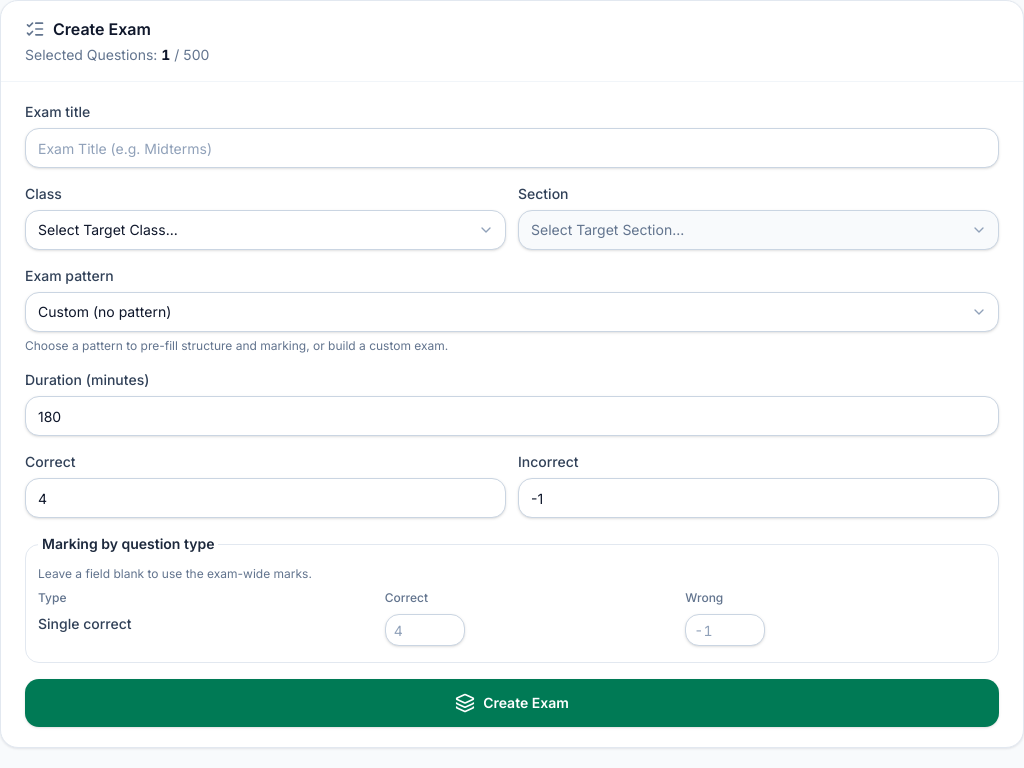
Test: CreateExamCard › choosing a pattern fills and locks duration and marking; Custom unlocks them
The width and height of the screenshot is (1024, 768).
Select "Mini JEE · 3 Qs · 90 min" in the dropdown named "Exam pattern for new exam": (512, 312) [25, 292, 999, 332]
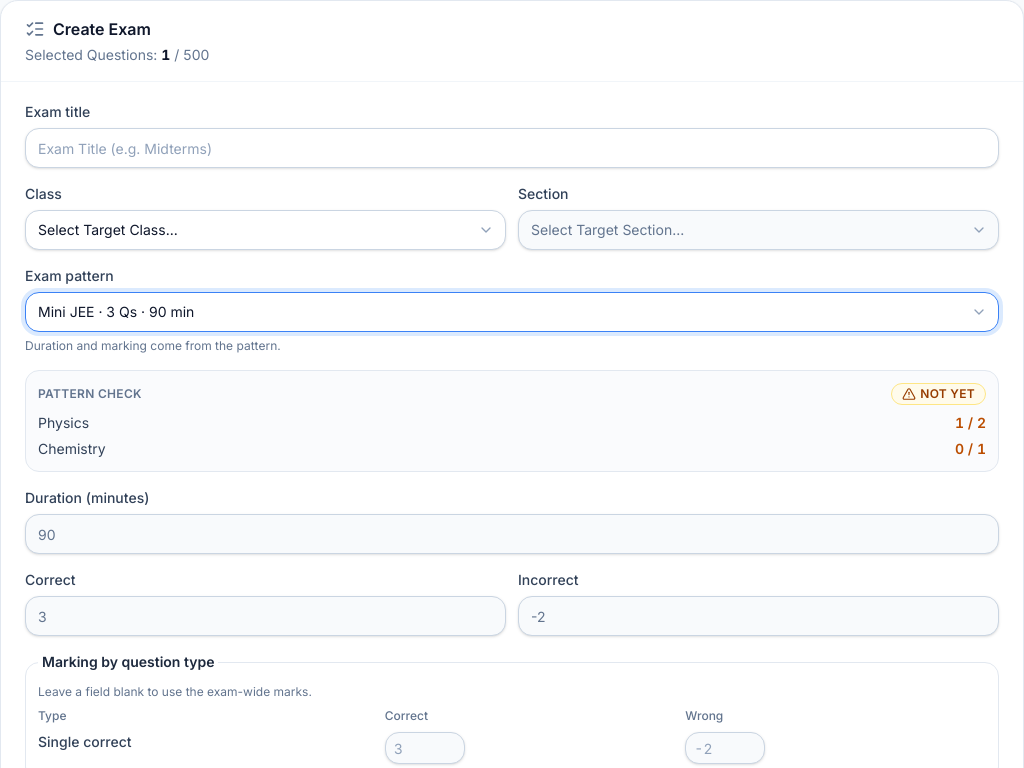
Result: the number field named "Duration for new exam" holds "90" at [25, 514, 999, 554]
Result: the number field named "Marks for a correct answer" holds "3" at [25, 596, 506, 636]
Result: the number field named "Marks for an incorrect answer" holds "-2" at [518, 596, 999, 636]
Select "Custom (no pattern)" in the dropdown named "Exam pattern for new exam": (512, 312) [25, 292, 999, 332]
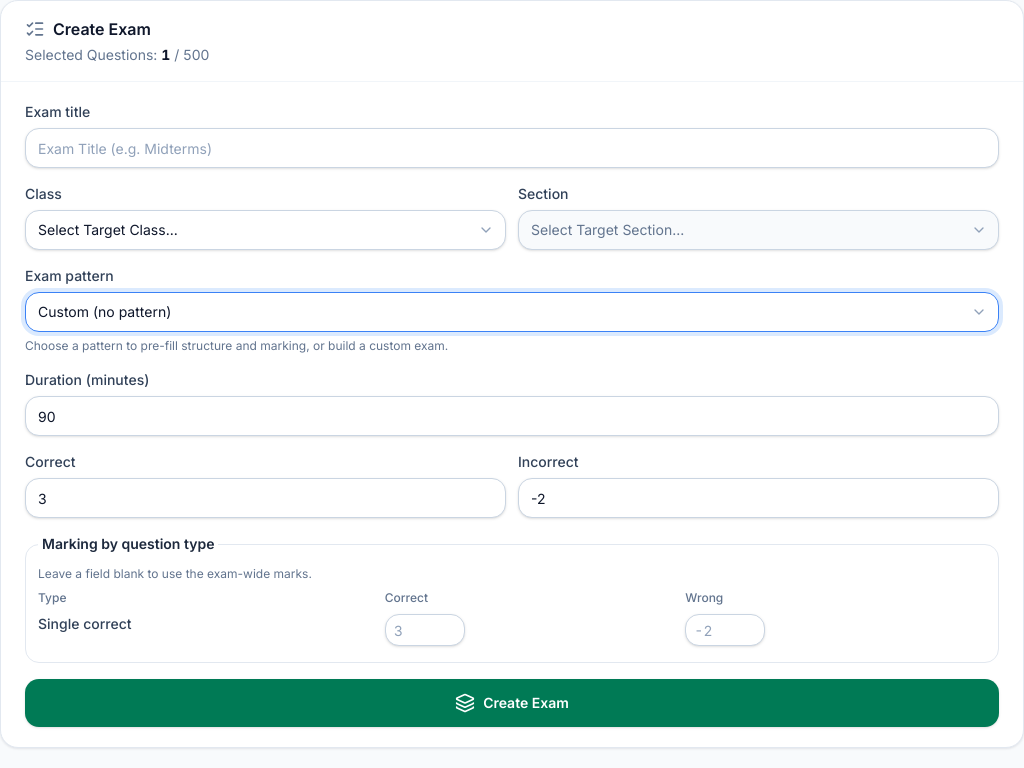
Result: the number field named "Duration for new exam" is enabled at [25, 396, 999, 436]
Result: the number field named "Marks for a correct answer" is enabled at [25, 478, 506, 518]
Result: the number field named "Marks for an incorrect answer" is enabled at [518, 478, 999, 518]
